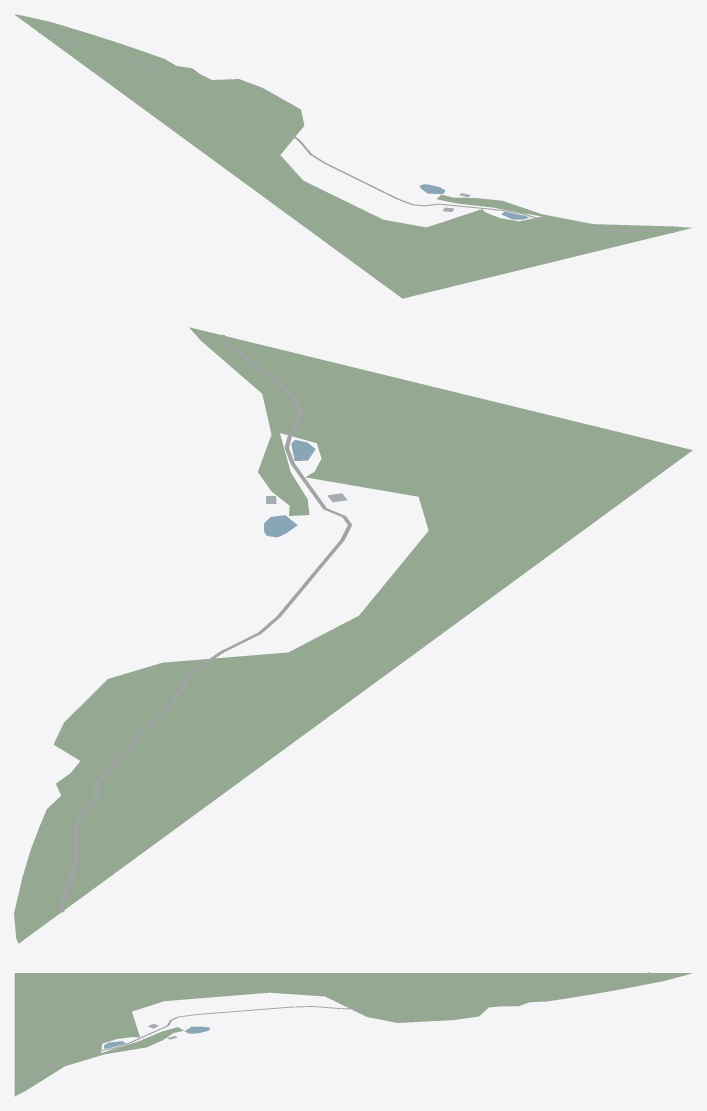
File: -22_-14-known-coarse.glb
The picture shows the model from 3 angles, top to bottom: view 1: azimuth 30°, elevation 25°; view 2: azimuth 150°, elevation 25°; view 3: azimuth 270°, elevation 25°; orthographic projection. The views are drawn at different scales.
Size of the model in its own units: 402 by 0.15 by 931.
